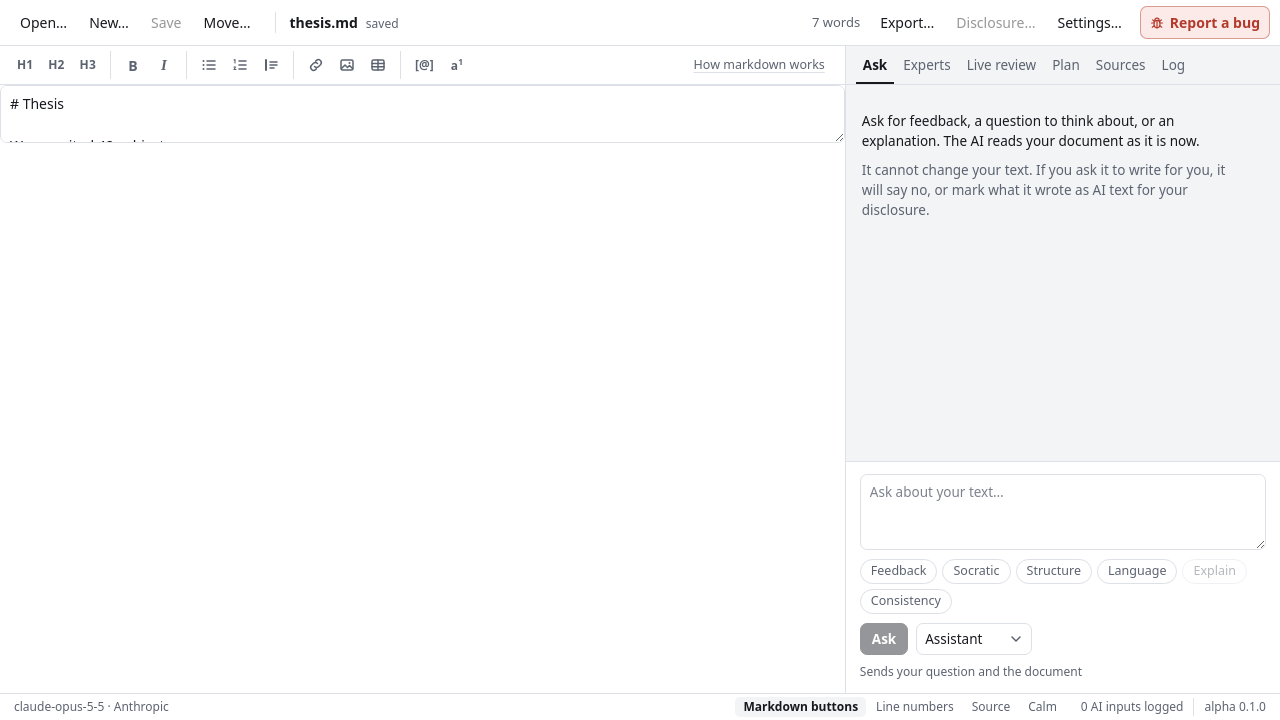
Test: without pandoc the export says what to install and does not try
expect the text "thesis.md" is shown: met, box [290, 13, 358, 32]
Click the button "Export…": (907, 22) [870, 6, 944, 39]
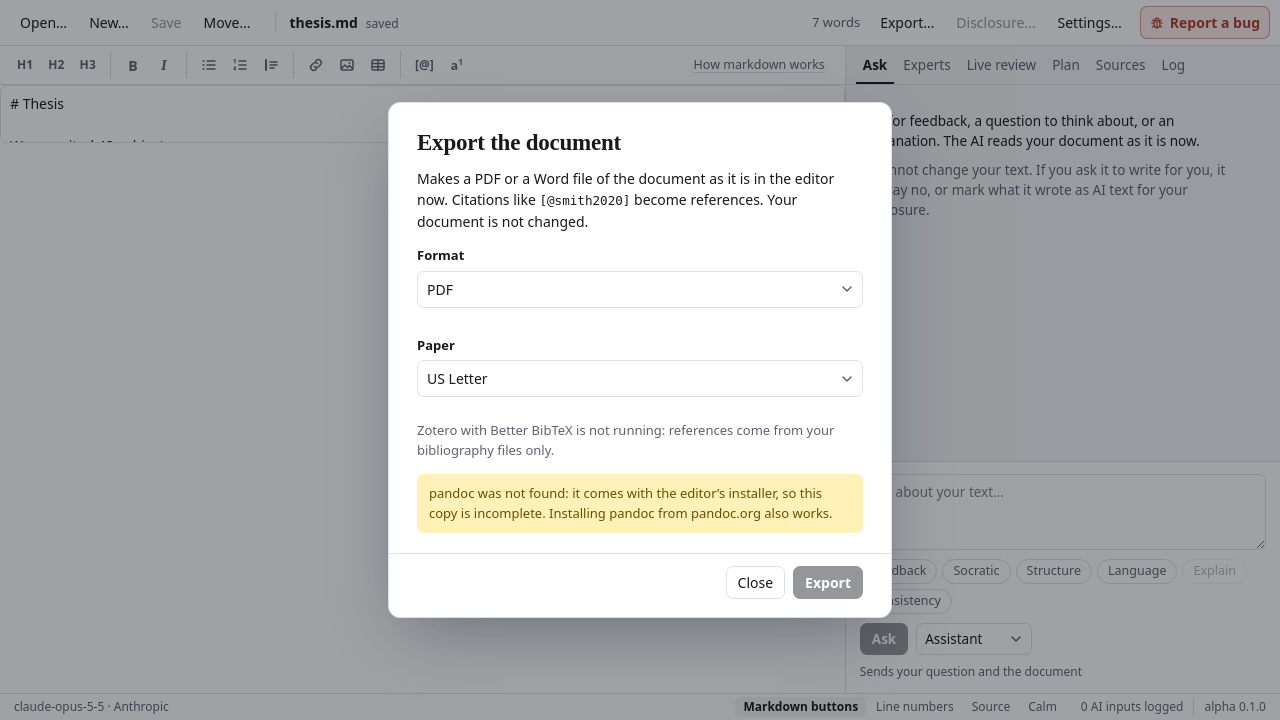
expect the text "pandoc was not found" is shown: met, box [429, 484, 832, 522]
expect the button "Export" is disabled: met, box [793, 566, 863, 599]
